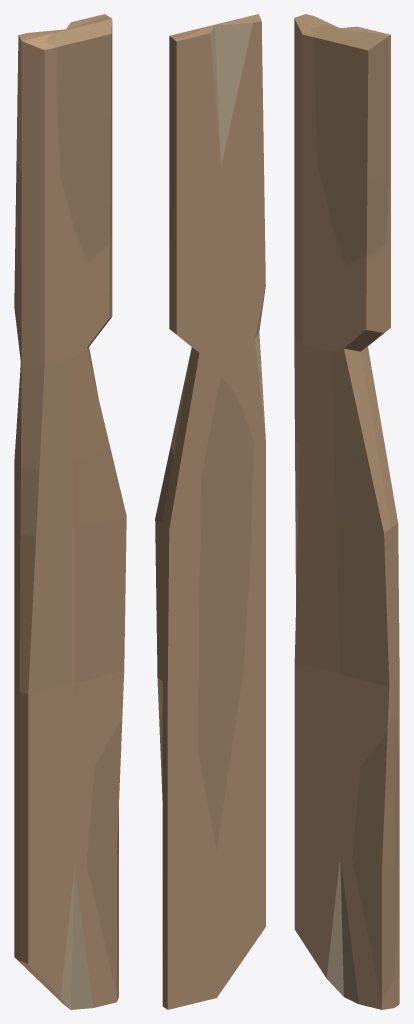
Rendered from SM_Wooden_Plank_C.fbx.
3 views of the same model, side by side, from view 1: azimuth 30°, elevation 25°; view 2: azimuth 210°, elevation 25°; view 3: azimuth 330°, elevation 25° (orthographic).
Visible parts, largest first — view 1: SM_Wooden_Plank_C; view 2: SM_Wooden_Plank_C; view 3: SM_Wooden_Plank_C.
Boxes of the visible parts, x1,y1,x2,y2 form: SM_Wooden_Plank_C: (14,14,126,1009); SM_Wooden_Plank_C: (155,14,265,1009); SM_Wooden_Plank_C: (294,14,399,1009).
Bounding box in the file's own units: 21.07 × 198 × 5.39.
